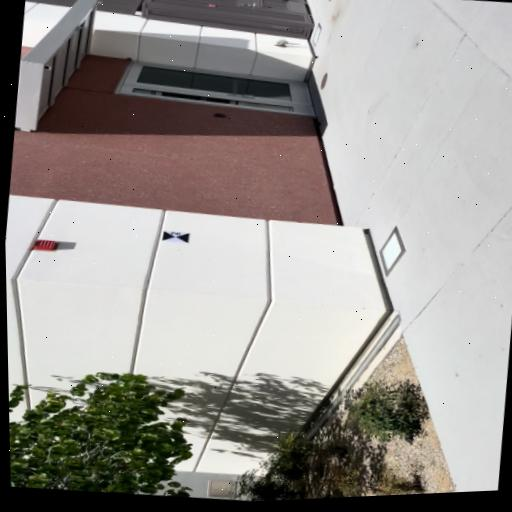target2: (162, 231, 189, 243)
